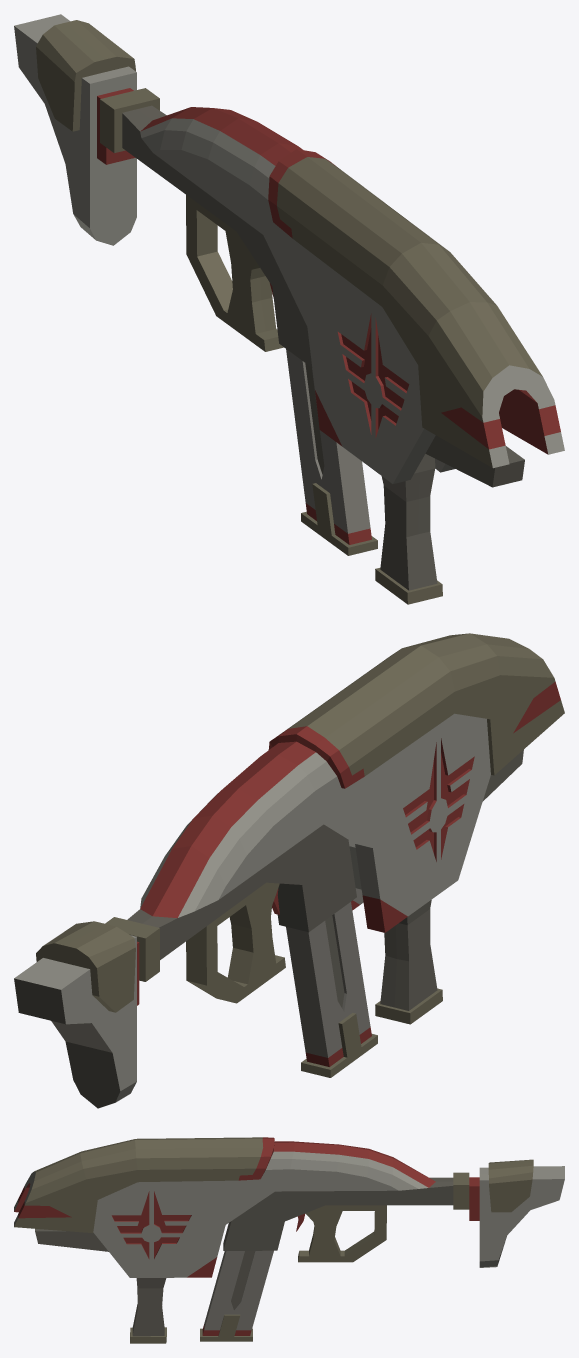
File: P7 Hornet.fbx
3 views of the same model, one above another, from view 1: azimuth 30°, elevation 25°; view 2: azimuth 150°, elevation 25°; view 3: azimuth 270°, elevation 25° (orthographic). The views are drawn at different scales.
Parts seen in each view (by area): view 1: Cube, Cube.001; view 2: Cube, Cube.001; view 3: Cube, Cube.001.
Part boxes in pixels (x1,y1,x2,y2): Cube: (14, 14, 564, 604); Cube.001: (286, 349, 377, 555); Cube: (14, 633, 564, 1108); Cube.001: (286, 902, 377, 1077); Cube: (14, 1137, 564, 1343); Cube.001: (200, 1250, 273, 1341).
Size of the model in its own units: 10.12 by 47.91 by 120.
